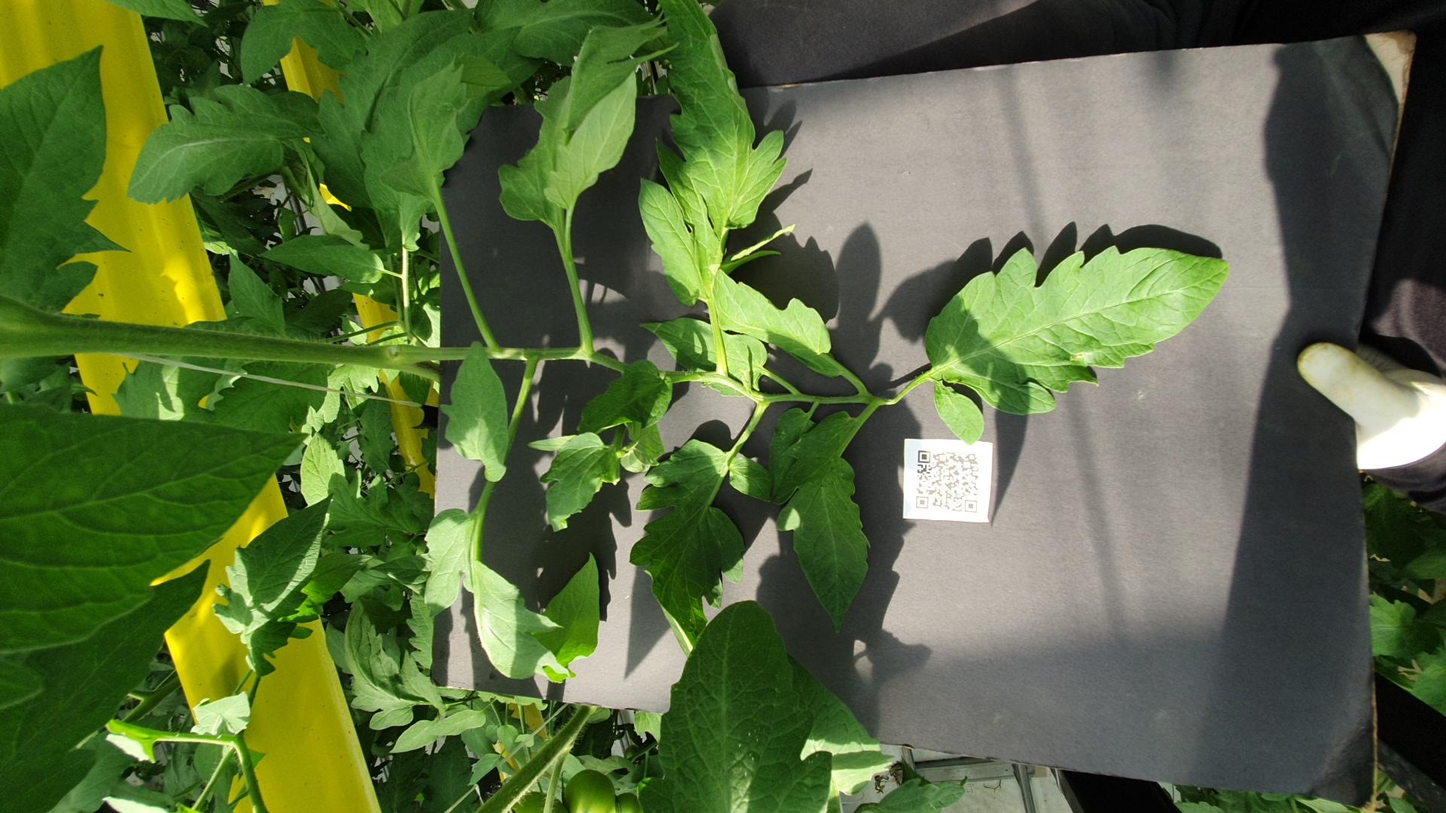Healthy: (184, 0, 726, 175), (654, 519, 1012, 690), (0, 0, 452, 119), (899, 359, 1446, 442), (0, 357, 381, 469), (1052, 279, 1429, 383), (888, 0, 1368, 74), (281, 353, 667, 434), (236, 238, 542, 320), (310, 432, 717, 490), (1083, 71, 1296, 178), (244, 119, 569, 187), (774, 402, 965, 472), (1100, 213, 1353, 264), (737, 358, 883, 430), (474, 168, 679, 219), (588, 247, 840, 287), (149, 193, 387, 231), (496, 303, 678, 349), (675, 323, 806, 378), (1295, 136, 1437, 171), (854, 128, 1003, 160), (608, 201, 766, 222), (942, 175, 1010, 215), (135, 237, 184, 273), (106, 219, 166, 246)
